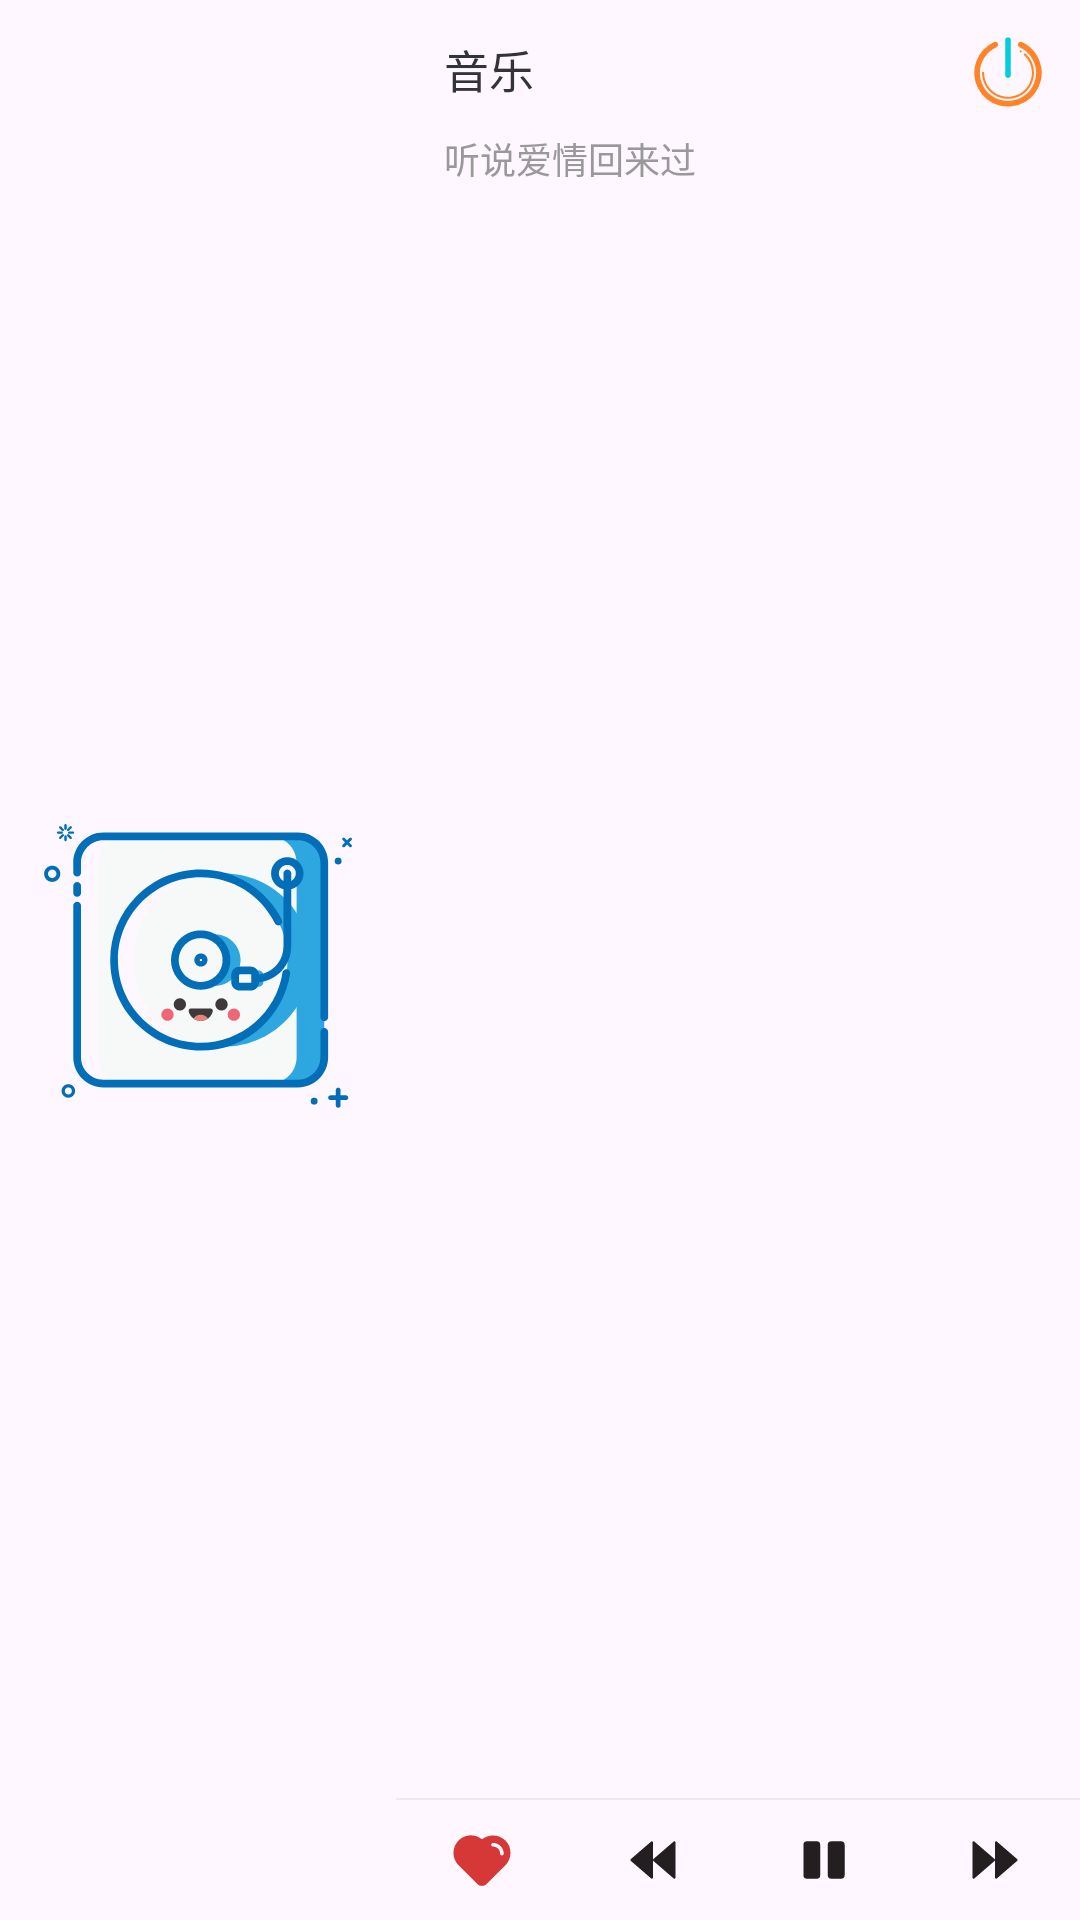

Locate icon controls on the screen. Image size 1080 × 1920, boxes as (x1=x1, y1=y1, x2=x2, y2=y2).
backward: (x1=630, y1=1841, x2=676, y2=1879)
close: (x1=974, y1=37, x2=1042, y2=107)
like: (x1=453, y1=1835, x2=511, y2=1886)
music: (x1=44, y1=824, x2=352, y2=1108)
next: (x1=972, y1=1841, x2=1018, y2=1879)
pause: (x1=803, y1=1841, x2=845, y2=1879)
